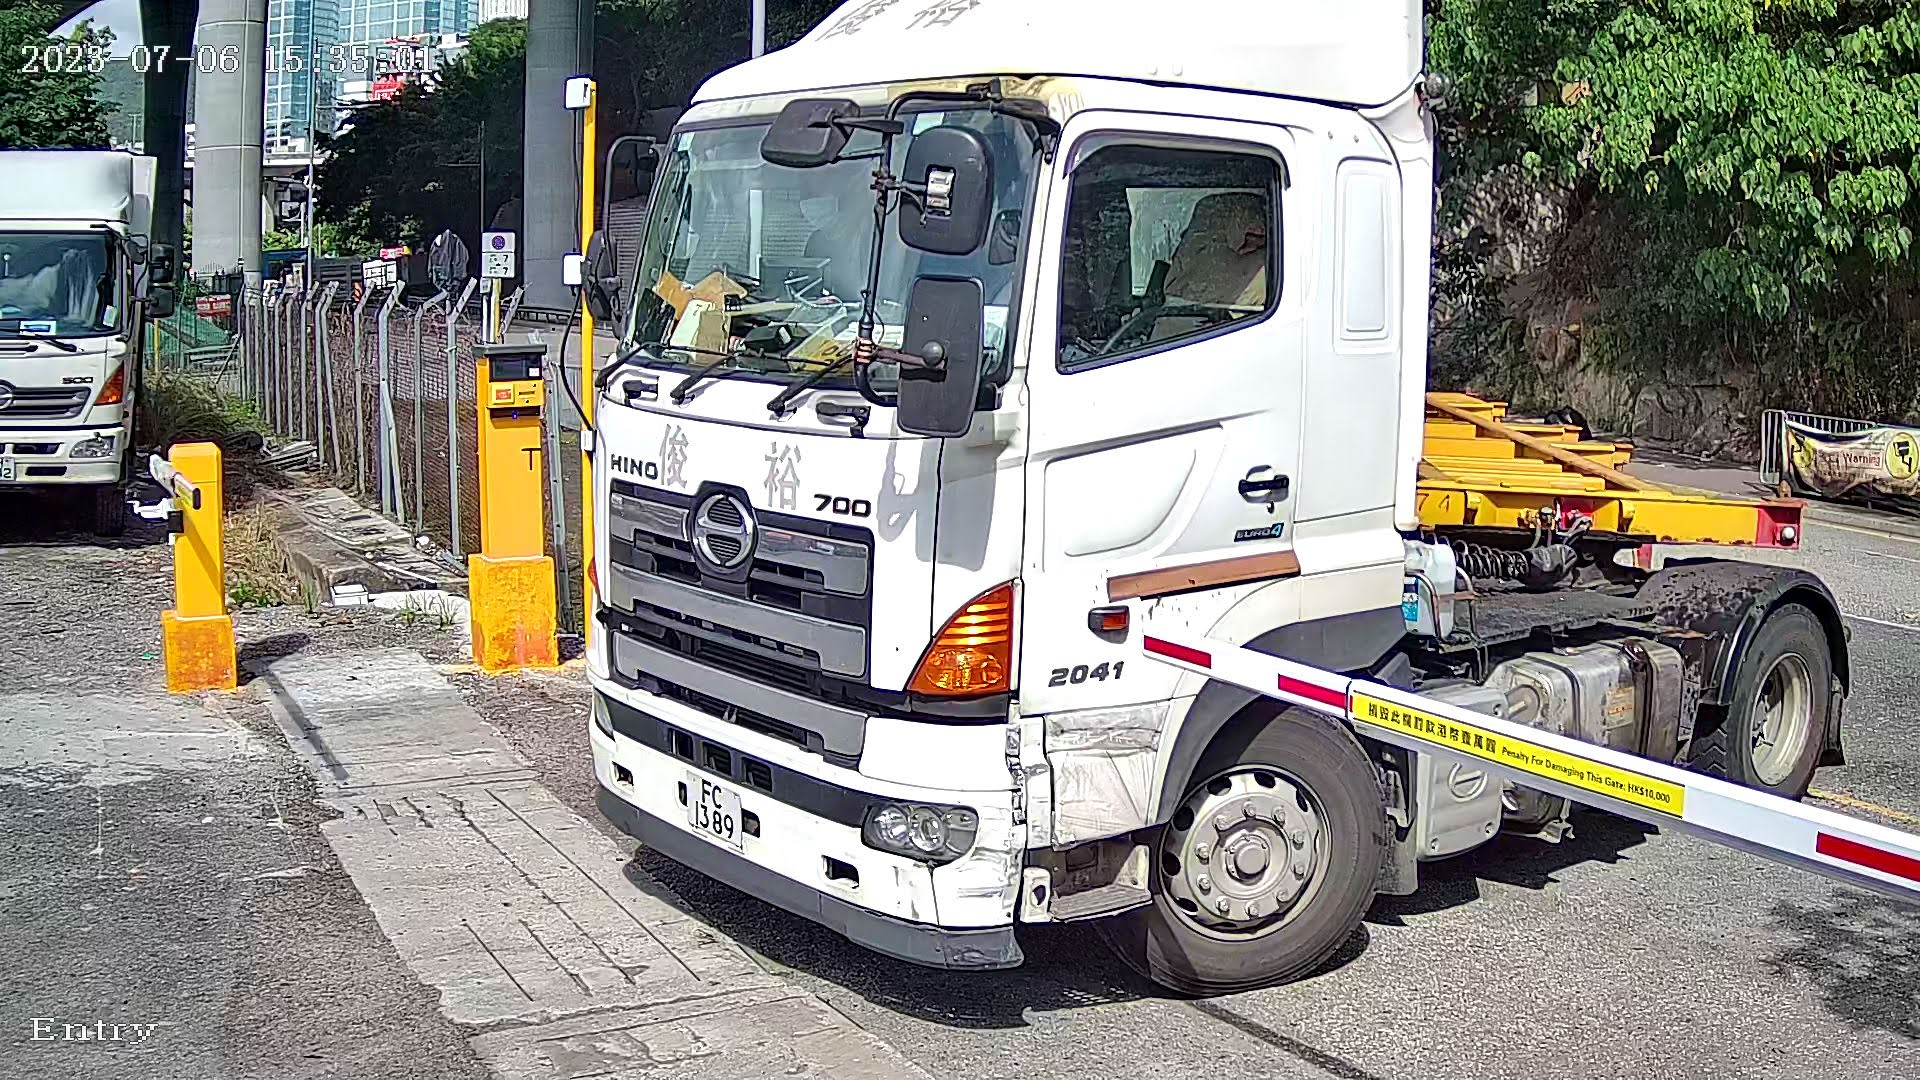tractor: (531, 1, 1850, 1048)
